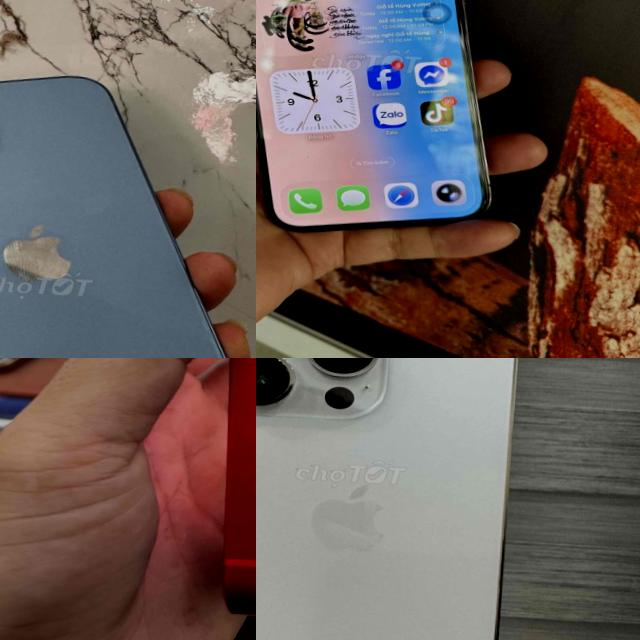gen_12_13: (256, 0, 514, 242), (192, 358, 256, 631)
gen_14: (256, 358, 534, 640), (0, 55, 256, 358)
